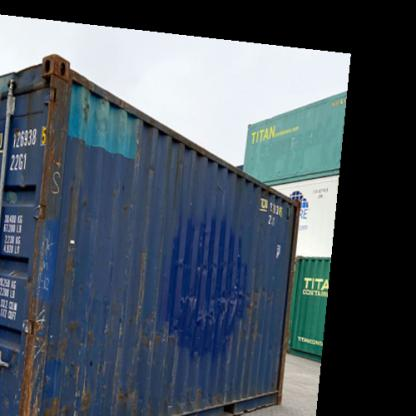Damage: (17, 292, 49, 390), (173, 287, 250, 325), (36, 113, 64, 202), (56, 348, 96, 394), (174, 247, 245, 271), (127, 246, 148, 322), (60, 225, 89, 280), (132, 326, 174, 350), (76, 93, 96, 130), (143, 154, 161, 188)
